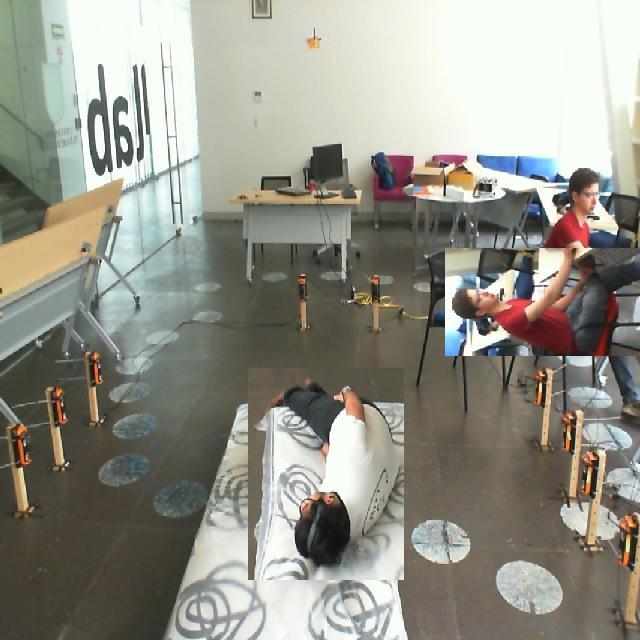Fall: (250, 418, 379, 591)
NotFall: (450, 196, 640, 422)
